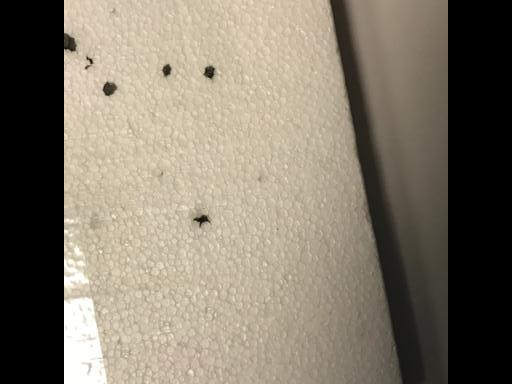cardboard: (70, 5, 405, 383)
